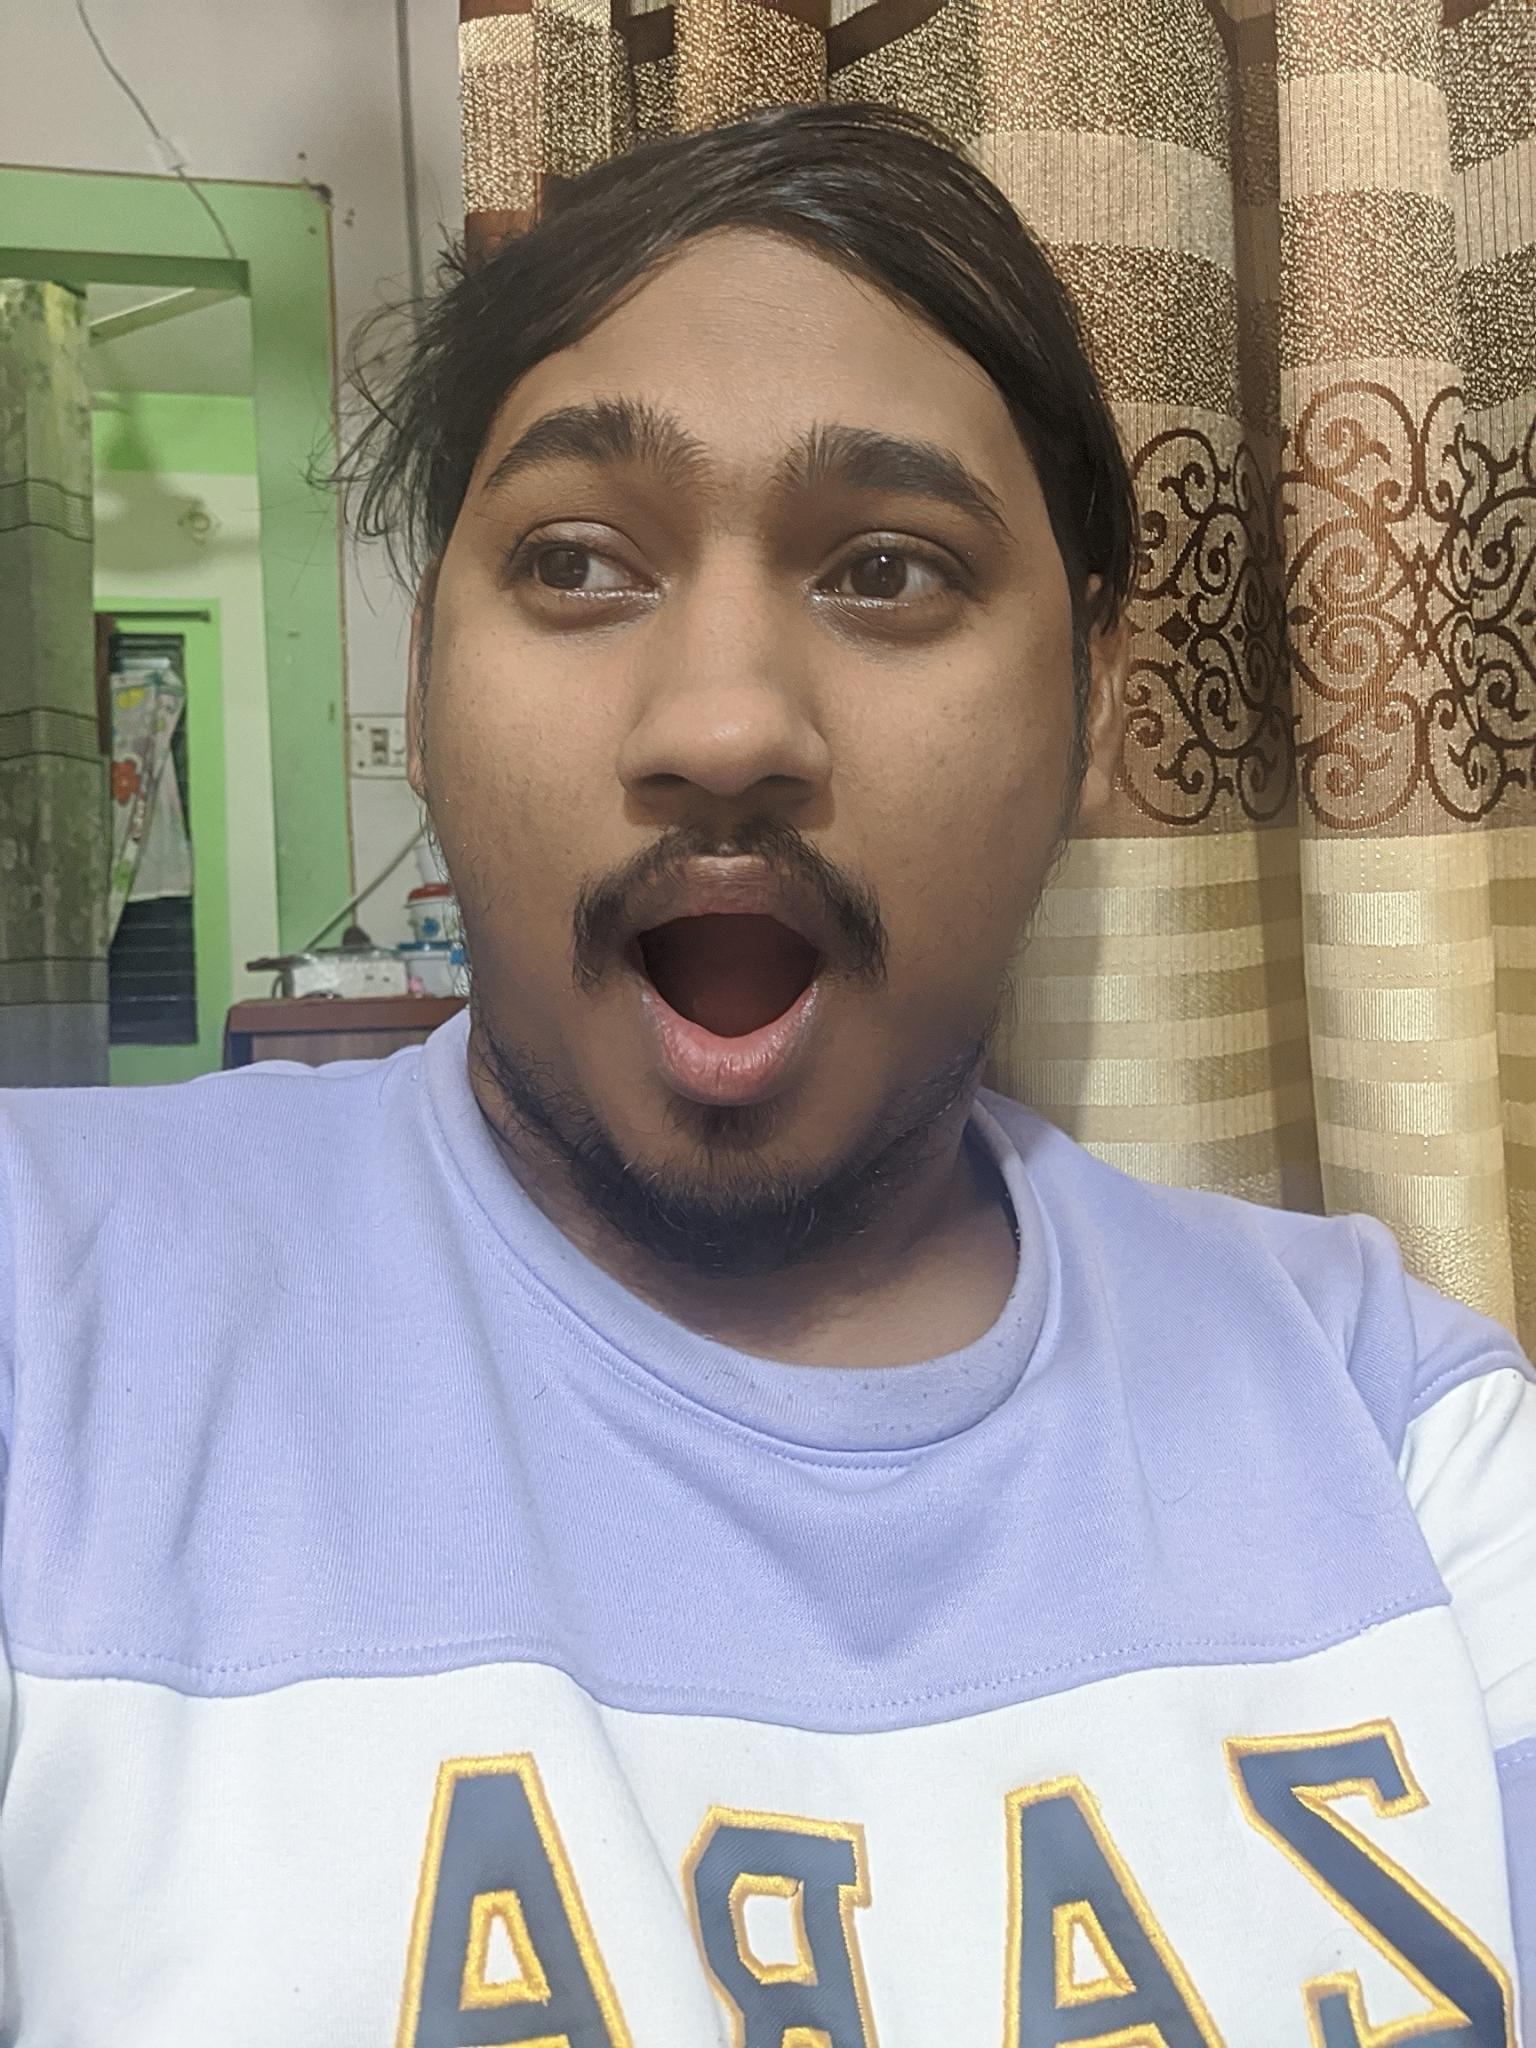Surprise: (405, 331, 1063, 1226)
